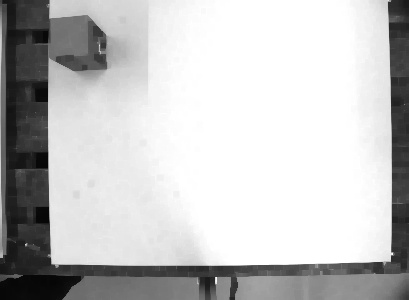b4: (46, 13, 109, 73)
